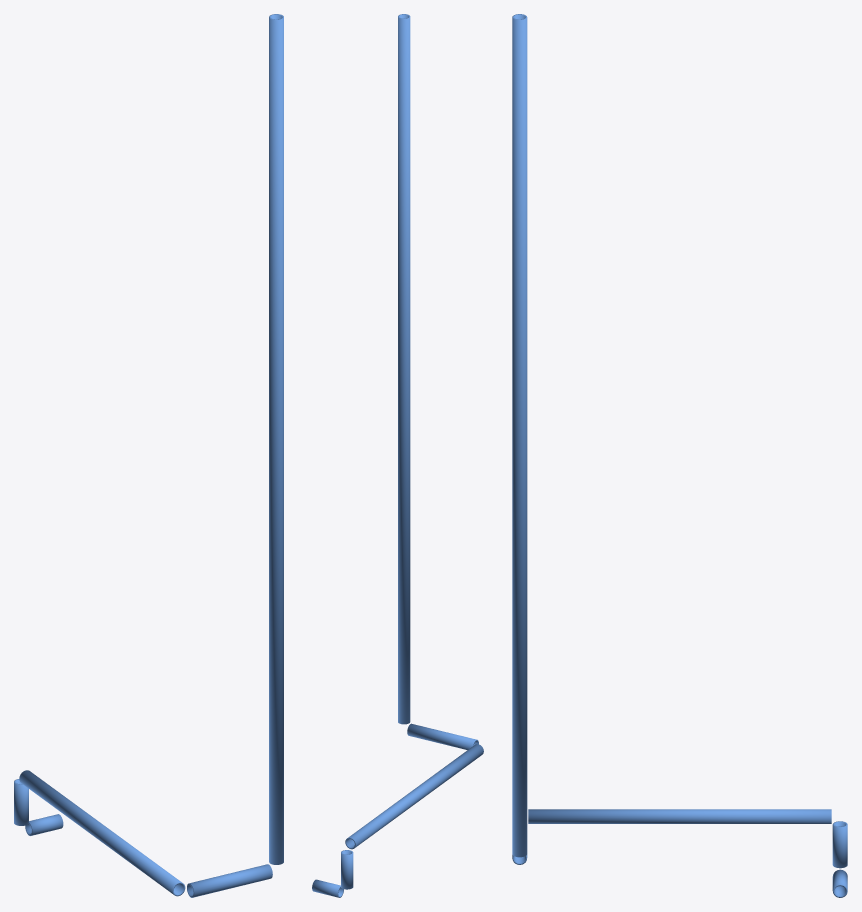
The model's file is slab_pipes_supply__softener-yes_and_plumbing-attic_repipe+pex+pex_branch_and_water-well.glb.
3 renders of one model, left to right at view 1: azimuth 30°, elevation 25°; view 2: azimuth 150°, elevation 25°; view 3: azimuth 270°, elevation 25°, orthographic. The views are drawn at different scales.
Parts seen in each view (by area): view 1: pipe_supply_softener_feed__pex.901; view 2: pipe_supply_softener_feed__pex.901; view 3: pipe_supply_softener_feed__pex.901.
Boxes of the visible parts, x1,y1,x2,y2 form: pipe_supply_softener_feed__pex.901: [14, 14, 283, 897]; pipe_supply_softener_feed__pex.901: [312, 14, 483, 897]; pipe_supply_softener_feed__pex.901: [512, 14, 847, 897].
Size of the model in its own units: 0.1821 by 1.5 by 0.5022.
